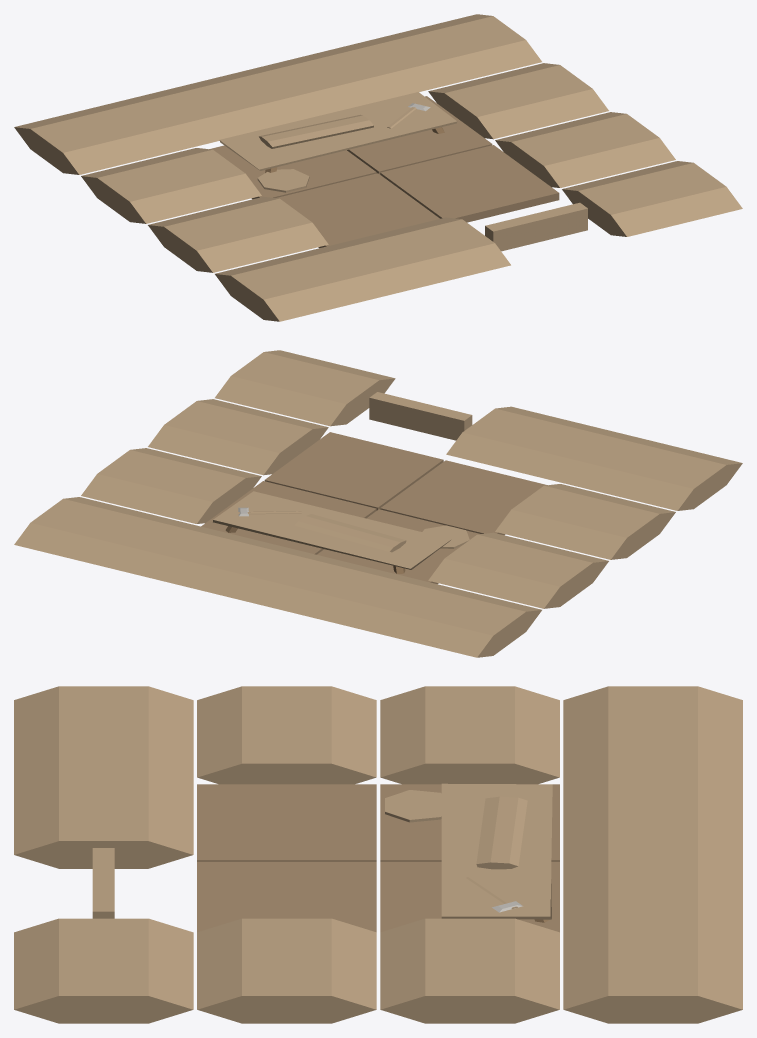
File: building_workshop_shed_foundation.glb
3 renders of one model, top to bottom at view 1: azimuth 30°, elevation 25°; view 2: azimuth 150°, elevation 25°; view 3: azimuth 270°, elevation 25°, orthographic. The views are drawn at different scales.
Parts seen in each view (by area): view 1: building_workshop_shed_foundation; view 2: building_workshop_shed_foundation; view 3: building_workshop_shed_foundation.
Part boxes in pixels (x1=…): building_workshop_shed_foundation: x1=14, y1=14, x2=742, y2=321; building_workshop_shed_foundation: x1=14, y1=350, x2=742, y2=657; building_workshop_shed_foundation: x1=14, y1=686, x2=742, y2=1023.
Size of the model in its own units: 4 by 0.1809 by 3.98.
